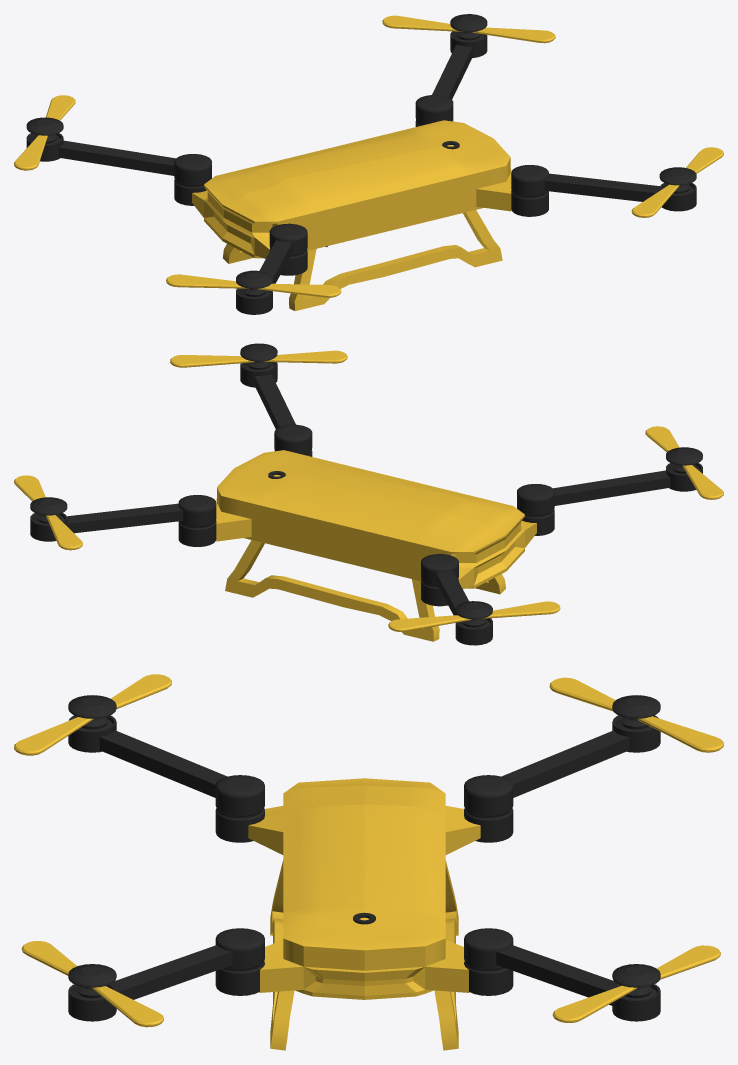
The model's file is drone.glb.
3 views of the same model, one above another, from view 1: azimuth 30°, elevation 25°; view 2: azimuth 150°, elevation 25°; view 3: azimuth 270°, elevation 25° (orthographic). The views are drawn at different scales.
Visible parts, largest first — view 1: polySurface26.001; view 2: polySurface26.001; view 3: polySurface26.001.
Part boxes in pixels (x1,y1,x2,y2): polySurface26.001: (14, 14, 723, 314); polySurface26.001: (14, 343, 723, 645); polySurface26.001: (14, 674, 723, 1050).
Bounding box in the file's own units: 1.22 × 0.2407 × 1.05.
1 material, 1 textured.
